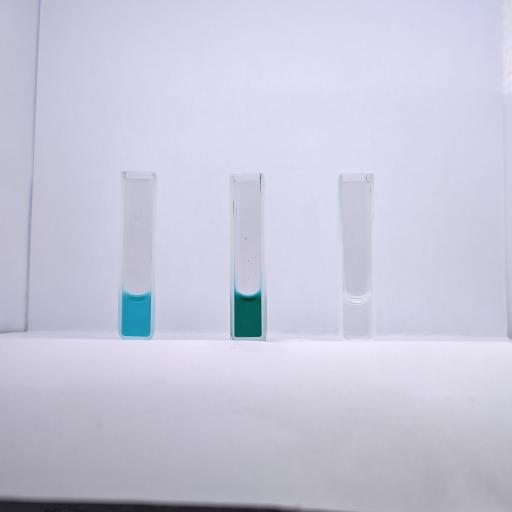cuvette: (116, 170, 160, 341), (227, 170, 270, 343), (336, 170, 378, 344)
liquid: (122, 290, 150, 338), (234, 291, 262, 337), (344, 294, 371, 338)
